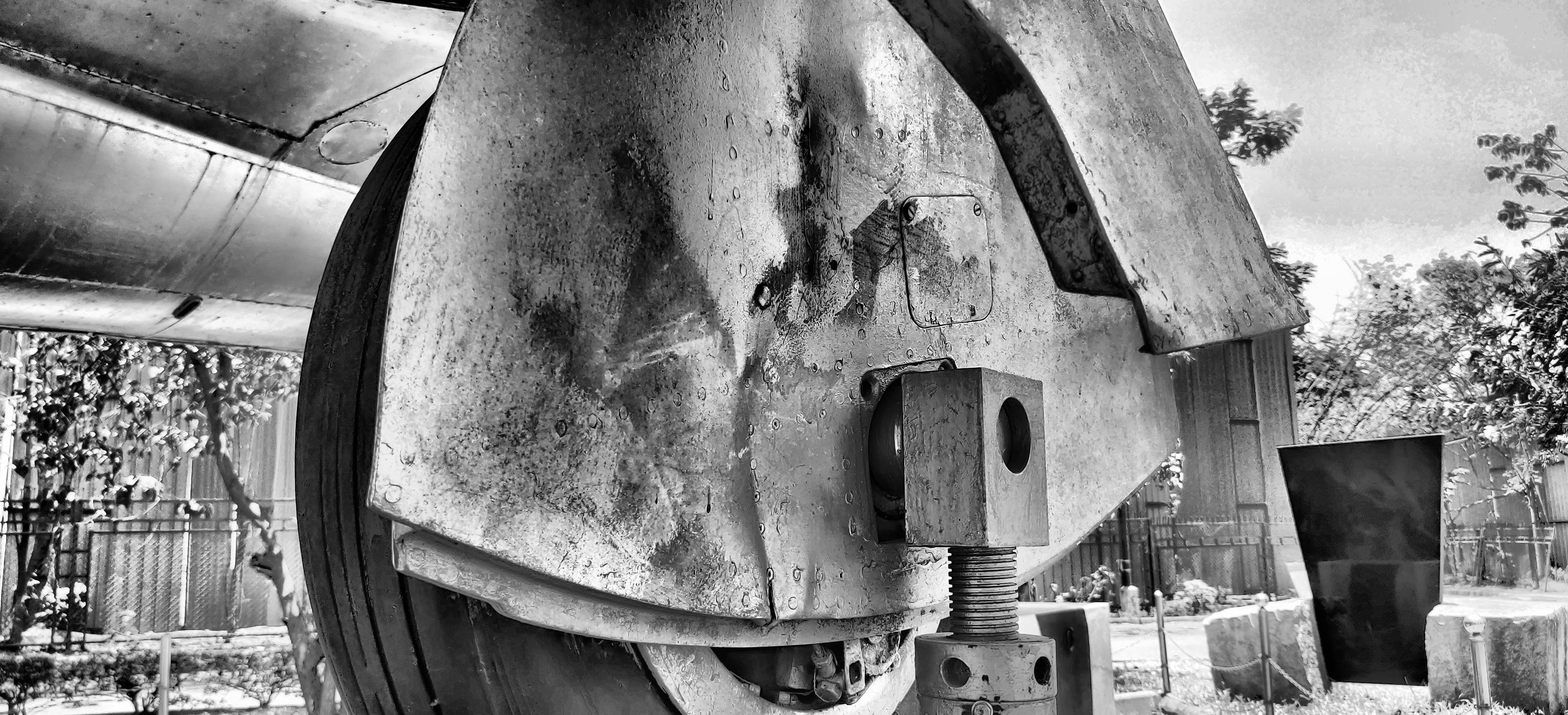crack: (766, 575, 780, 622)
dent: (791, 68, 843, 302), (742, 406, 781, 623), (723, 316, 758, 388), (1143, 303, 1189, 353), (792, 545, 818, 621)
missing-head: (857, 374, 878, 401), (1065, 201, 1078, 216)
